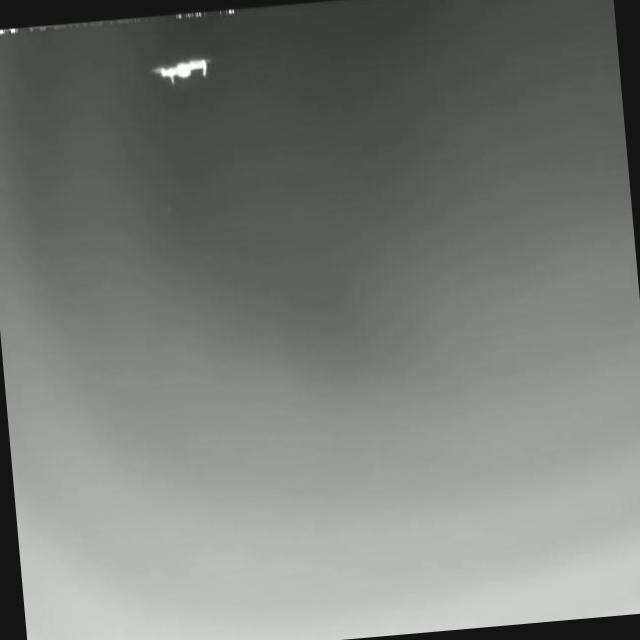DRONE: (151, 52, 216, 85)
